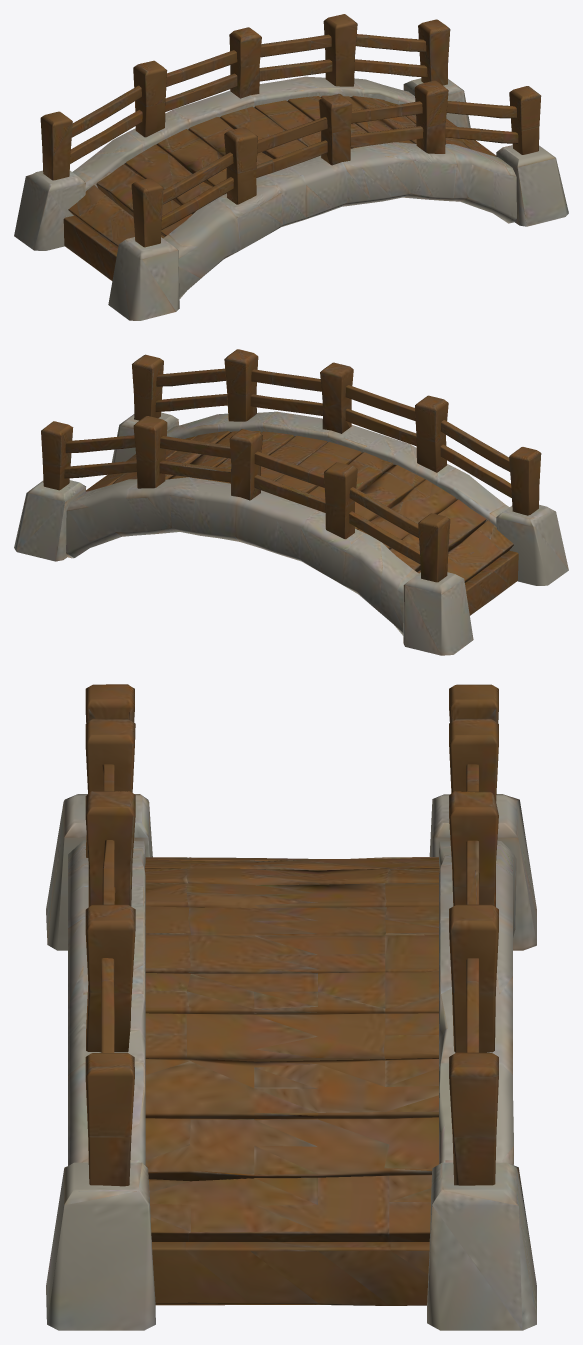
The model's file is 53-small-bridge.glb.
3 renders of one model, top to bottom at view 1: azimuth 30°, elevation 25°; view 2: azimuth 150°, elevation 25°; view 3: azimuth 270°, elevation 25°, orthographic. The views are drawn at different scales.
Parts seen in each view (by area): view 1: geometry_0; view 2: geometry_0; view 3: geometry_0.
Part boxes in pixels (box(x1,y1,x2,y2)): geometry_0: box(14, 14, 568, 320); geometry_0: box(14, 349, 568, 655); geometry_0: box(46, 684, 536, 1330).
Size of the model in its own units: 0.9497 by 0.3321 by 0.4599.
1 material, 1 textured.
